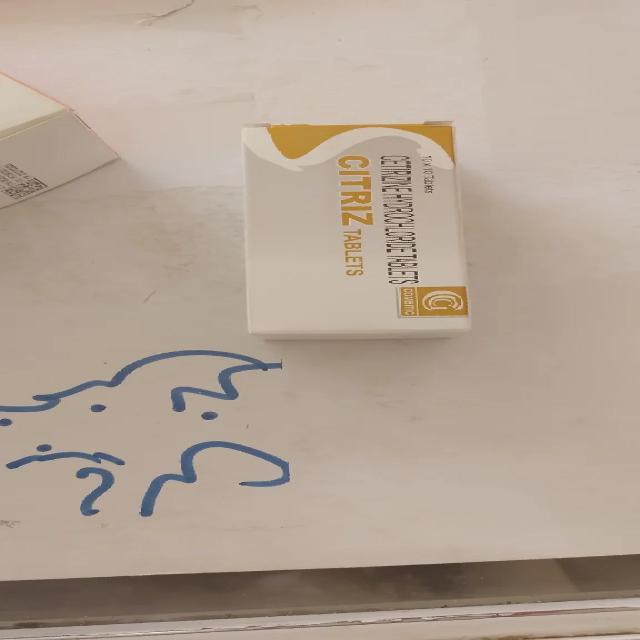drug-name: (334, 146, 376, 228)
